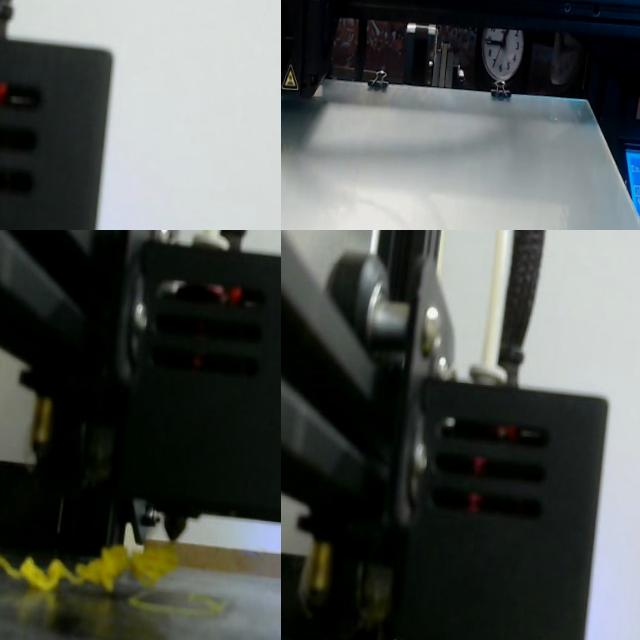spaghetti: (0, 545, 177, 591)
